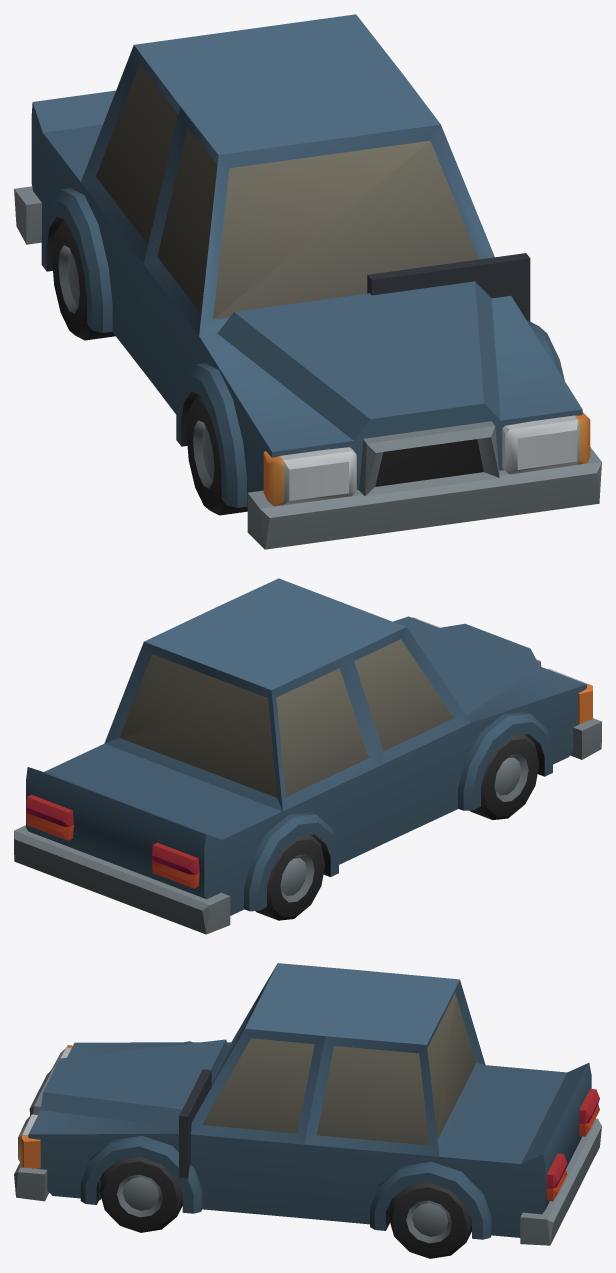
File: decor_3.fbx
3 renders of one model, top to bottom at view 1: azimuth 30°, elevation 25°; view 2: azimuth 150°, elevation 25°; view 3: azimuth 270°, elevation 25°, orthographic. The views are drawn at different scales.
Visible parts, largest first — view 1: decor_3; view 2: decor_3; view 3: decor_3.
Part boxes in pixels (x1,y1,x2,y2): decor_3: (14, 14, 601, 549); decor_3: (14, 578, 601, 934); decor_3: (14, 963, 601, 1258).
Bounding box in the file's own units: 1.55 × 0.9588 × 2.59.
